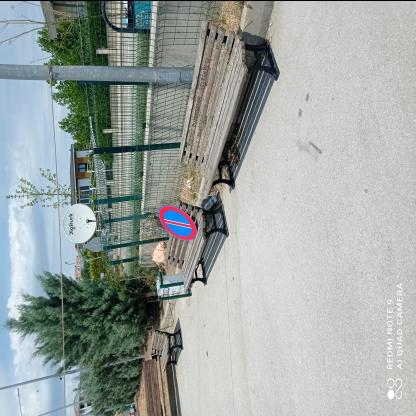No Waiting: (160, 205, 198, 241)
